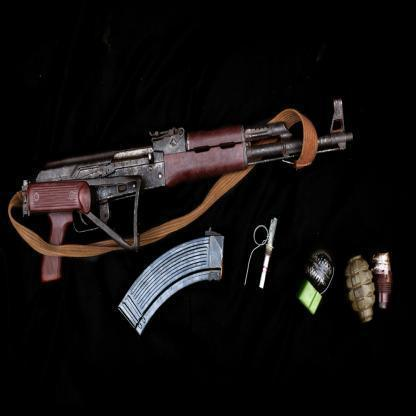Grenade: (298, 247, 335, 324), (342, 255, 376, 323)
Gun: (19, 99, 354, 282)
